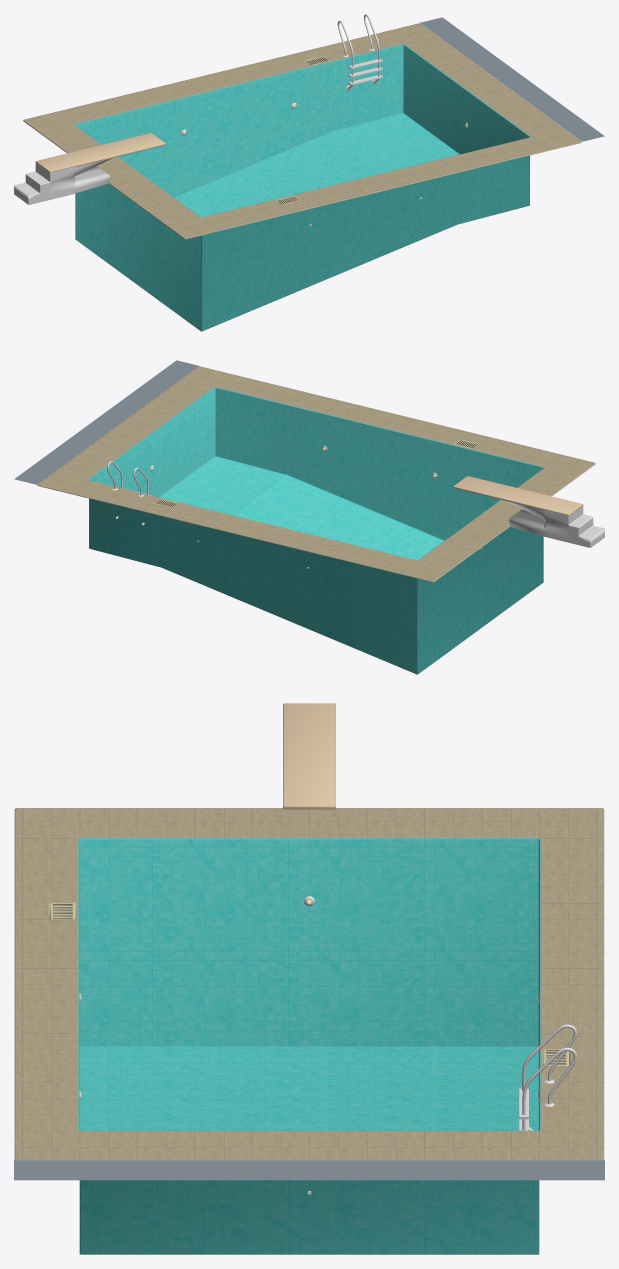
File: pool.gltf
The picture shows the model from 3 angles, top to bottom: view 1: azimuth 30°, elevation 25°; view 2: azimuth 150°, elevation 25°; view 3: azimuth 270°, elevation 25°; orthographic projection. The views are drawn at different scales.
Parts seen in each view (by area): view 1: Pool Main, Trampolin, 平面; view 2: Pool Main, Trampolin, 平面; view 3: Pool Main, 平面, Trampolin.
Boxes of the visible parts, box(x1,y1,x2,y2) form: Pool Main: box(23, 23, 581, 331); Trampolin: box(14, 133, 165, 204); 平面: box(420, 17, 604, 141); Pool Main: box(37, 366, 595, 674); Trampolin: box(453, 476, 604, 547); 平面: box(14, 360, 198, 484); Pool Main: box(14, 808, 604, 1254); 平面: box(14, 1160, 604, 1180); Trampolin: box(283, 703, 335, 809).
Size of what is drawn, in the model's own units: 9.17 by 2.54 by 5.14.
Materials: 13 (3 with a texture image).
